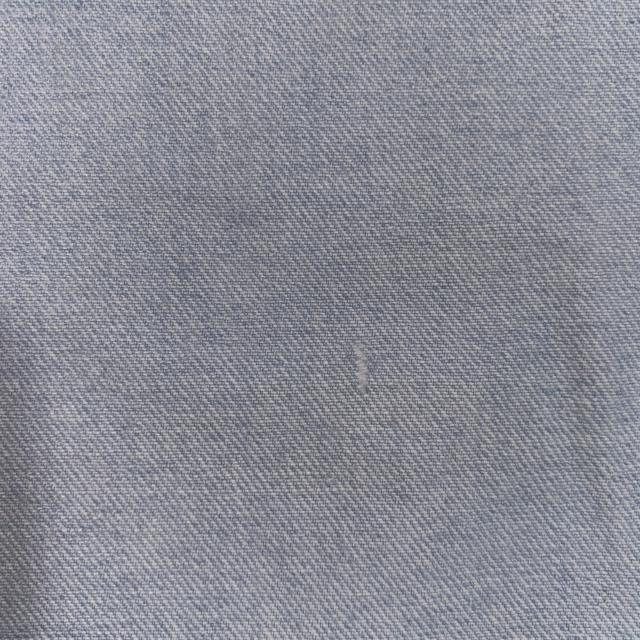Knot: (353, 343, 369, 396)
